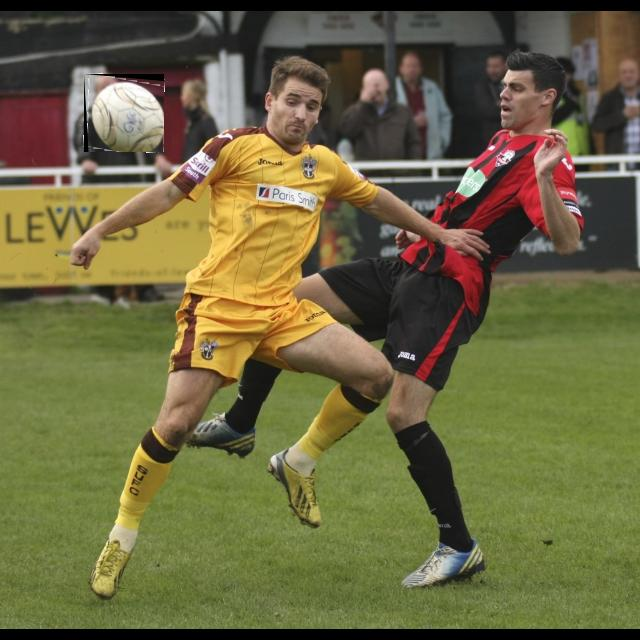Football: (84, 74, 164, 152)
